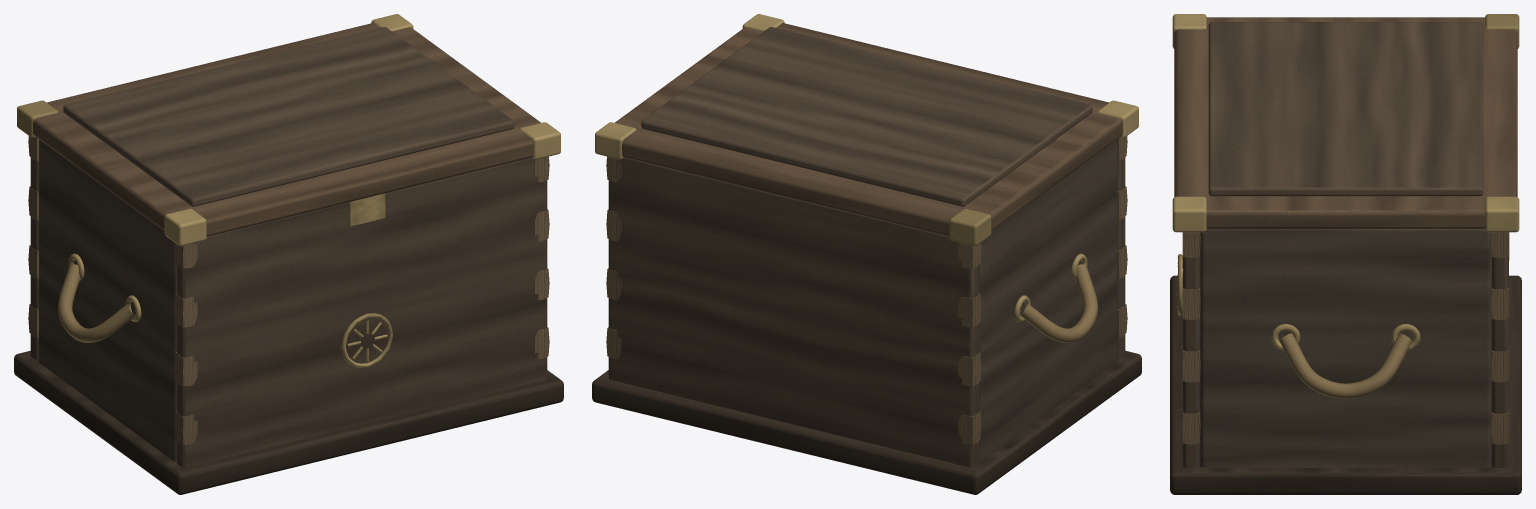
The picture shows the model from 3 angles, left to right: view 1: azimuth 30°, elevation 25°; view 2: azimuth 150°, elevation 25°; view 3: azimuth 270°, elevation 25°; orthographic projection. The views are drawn at different scales.
Parts seen in each view (by area): view 1: quarter-sawn hardwood, weathered plank hardwood, worn timber edges, hardwood bevel and dark grain, aged brass fittings, sawn end-grain timber, hemp rope; view 2: quarter-sawn hardwood, weathered plank hardwood, worn timber edges, hardwood bevel and dark grain, sawn end-grain timber, aged brass fittings, hemp rope; view 3: weathered plank hardwood, quarter-sawn hardwood, worn timber edges, hardwood bevel and dark grain, aged brass fittings, sawn end-grain timber, hemp rope.
Boxes of the visible parts, x1=… form: quarter-sawn hardwood: x1=30, y1=27, x2=547, y2=467; weathered plank hardwood: x1=39, y1=139, x2=176, y2=461; worn timber edges: x1=33, y1=23, x2=540, y2=236; hardwood bevel and dark grain: x1=14, y1=351, x2=563, y2=494; aged brass fittings: x1=17, y1=14, x2=560, y2=367; sawn end-grain timber: x1=28, y1=136, x2=549, y2=445; hemp rope: x1=58, y1=264, x2=135, y2=342; quarter-sawn hardwood: x1=608, y1=27, x2=1125, y2=467; weathered plank hardwood: x1=979, y1=139, x2=1116, y2=461; worn timber edges: x1=615, y1=23, x2=1122, y2=236; hardwood bevel and dark grain: x1=592, y1=350, x2=1141, y2=494; sawn end-grain timber: x1=606, y1=136, x2=1127, y2=445; aged brass fittings: x1=595, y1=14, x2=1138, y2=321; hemp rope: x1=1020, y1=264, x2=1097, y2=342; weathered plank hardwood: x1=1200, y1=229, x2=1491, y2=467; quarter-sawn hardwood: x1=1183, y1=22, x2=1508, y2=467; worn timber edges: x1=1174, y1=17, x2=1517, y2=228; hardwood bevel and dark grain: x1=1170, y1=275, x2=1521, y2=494; aged brass fittings: x1=1172, y1=14, x2=1519, y2=350; sawn end-grain timber: x1=1182, y1=232, x2=1509, y2=444; hemp rope: x1=1279, y1=333, x2=1412, y2=398.
Bounding box in the file's own units: 0.6179 × 0.376 × 0.41.
Materials: 9 (7 with a texture image).
